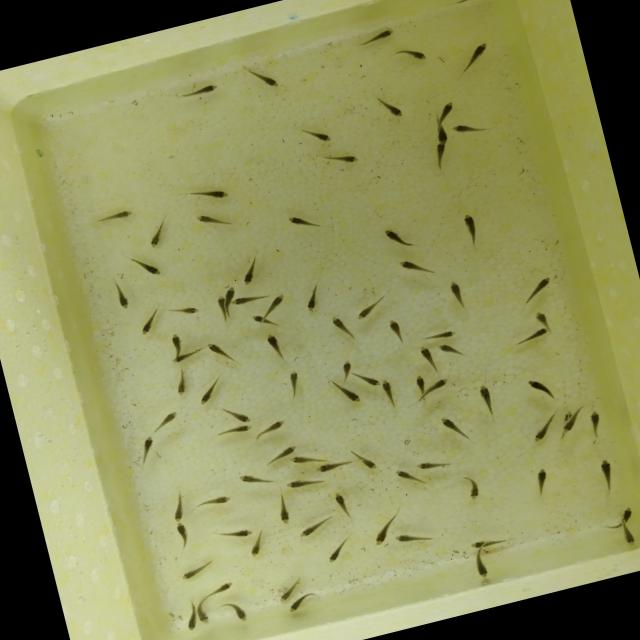fingerling: (242, 58, 282, 94), (293, 511, 340, 540), (522, 369, 558, 404), (438, 411, 472, 447), (456, 38, 494, 69), (528, 411, 562, 445), (364, 518, 398, 550), (381, 222, 415, 254), (590, 456, 618, 494), (350, 294, 384, 324), (132, 252, 168, 280), (376, 92, 407, 124), (192, 182, 235, 205), (398, 252, 434, 279), (300, 121, 336, 148), (192, 206, 229, 232), (522, 270, 556, 298), (418, 373, 454, 399), (458, 214, 482, 253), (218, 399, 250, 428), (334, 376, 364, 406), (132, 430, 160, 462), (394, 40, 428, 66), (282, 208, 316, 234), (474, 382, 500, 416), (356, 26, 400, 46), (527, 466, 552, 501), (152, 406, 185, 432), (328, 310, 354, 343), (236, 256, 264, 286), (278, 368, 304, 400), (273, 494, 296, 530), (212, 422, 252, 442), (446, 276, 468, 312), (433, 94, 461, 122), (135, 310, 163, 338), (144, 220, 170, 250), (322, 542, 352, 568), (174, 82, 217, 100), (473, 550, 495, 585), (254, 292, 286, 316), (518, 324, 556, 344), (465, 533, 503, 553), (94, 207, 138, 224), (298, 280, 322, 311), (173, 562, 210, 582), (228, 290, 269, 308), (583, 405, 606, 437), (194, 380, 222, 406), (314, 456, 350, 476), (110, 278, 131, 312), (354, 451, 382, 476), (168, 300, 202, 320), (204, 338, 231, 363), (165, 493, 188, 522), (205, 578, 238, 598), (220, 524, 256, 542), (248, 420, 285, 437), (270, 586, 301, 606), (390, 464, 418, 486), (262, 330, 284, 358), (329, 150, 363, 168), (234, 468, 264, 488), (172, 516, 192, 546), (407, 371, 431, 396), (412, 456, 447, 473), (167, 348, 202, 365), (286, 474, 319, 492), (286, 450, 318, 468), (198, 492, 234, 508), (164, 328, 186, 354), (281, 596, 311, 615), (356, 370, 384, 390), (252, 310, 280, 330), (246, 532, 266, 560), (432, 140, 452, 168), (388, 317, 407, 346), (270, 442, 302, 459), (452, 118, 482, 136), (392, 530, 422, 548), (172, 372, 191, 400), (233, 600, 255, 624), (417, 341, 437, 367), (530, 307, 552, 330), (619, 525, 639, 550), (328, 489, 348, 514), (435, 338, 459, 358), (183, 608, 200, 636), (466, 475, 484, 501), (337, 358, 358, 380), (378, 376, 394, 404), (215, 294, 231, 322), (193, 597, 209, 624), (433, 326, 460, 342), (221, 282, 237, 306), (434, 124, 449, 146), (560, 418, 577, 436), (618, 506, 634, 524)
